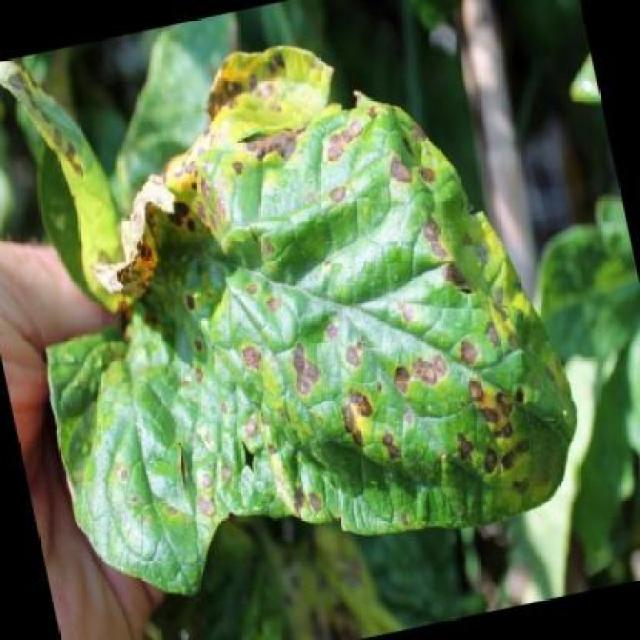Septoria leaf spot: (1, 1, 616, 639)
